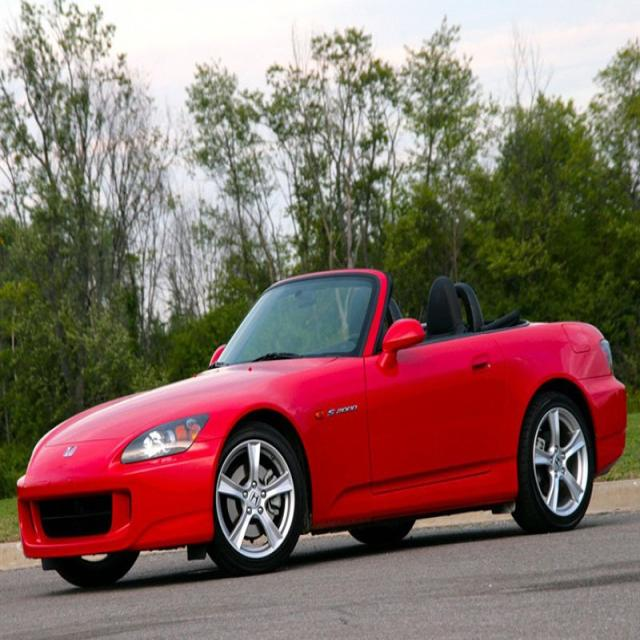front_bumper: (15, 434, 225, 556)
front_glass: (216, 269, 378, 368)
front_left_side_door: (361, 315, 522, 492)
front_left_side_light: (118, 410, 208, 470)
front_left_side_mirror: (382, 316, 427, 368)
rear_bumper: (574, 361, 630, 472)
wheel: (210, 421, 302, 564), (520, 394, 594, 524)
